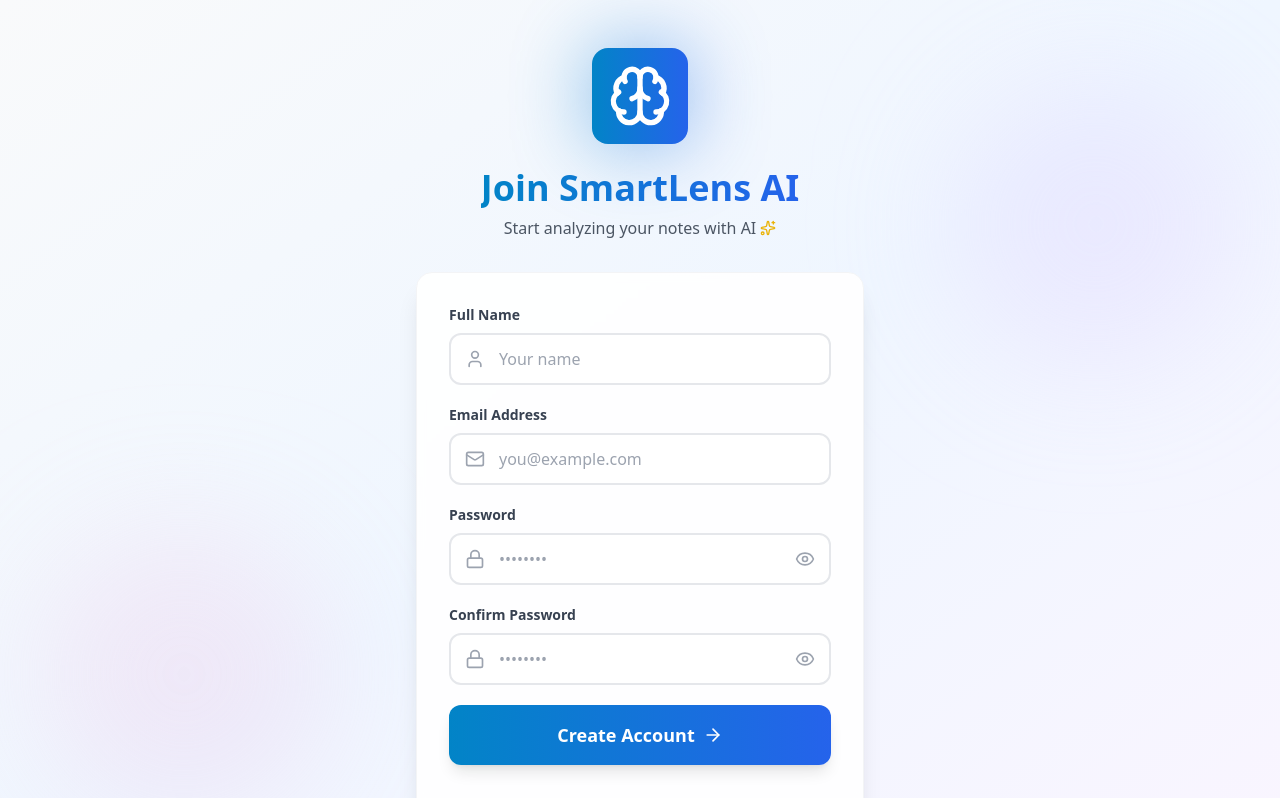
Signup Component › Error Handling › should display generic error message when no specific message provided
In the field labelled "Full Name": (640, 359) [449, 333, 831, 385], type "John Doe"
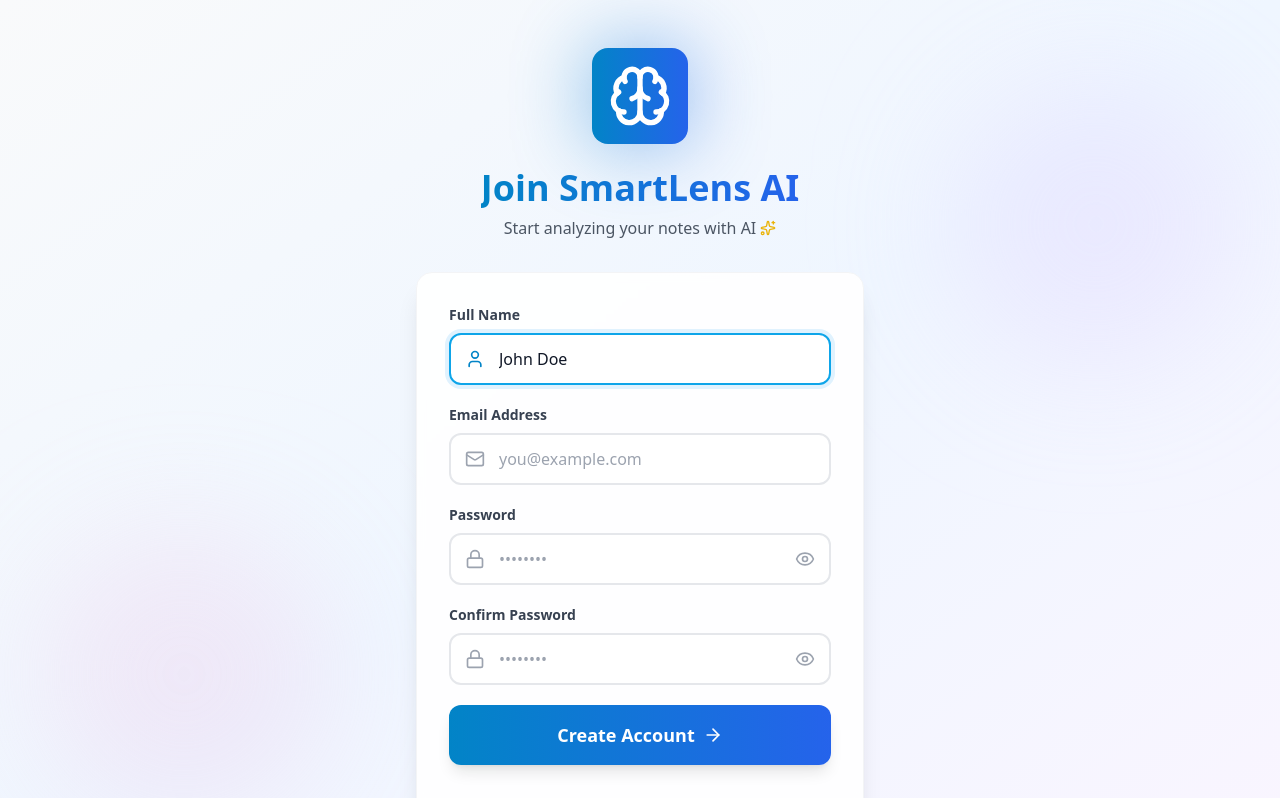
In the field labelled "Email Address": (640, 459) [449, 433, 831, 485], type "test@example.com"
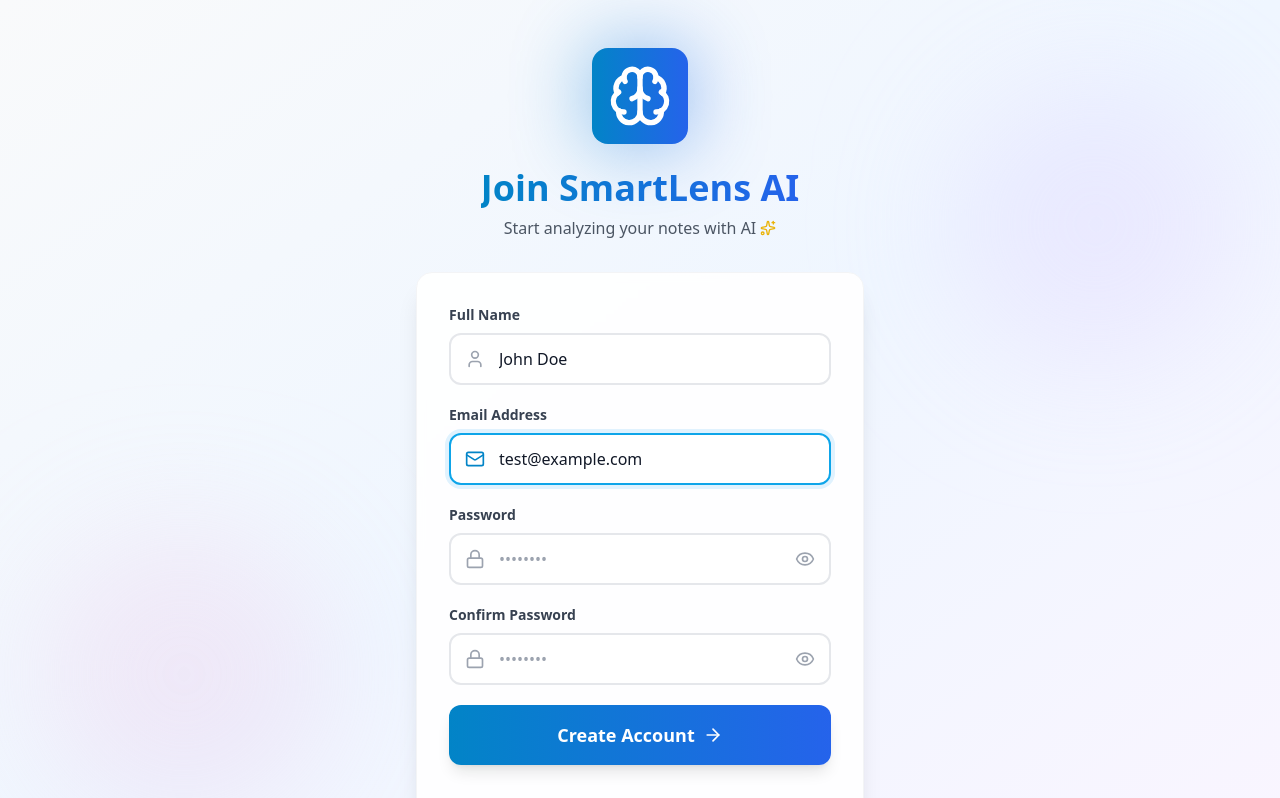
In the password field labelled "Password": (640, 559) [449, 533, 831, 585], type "password123"
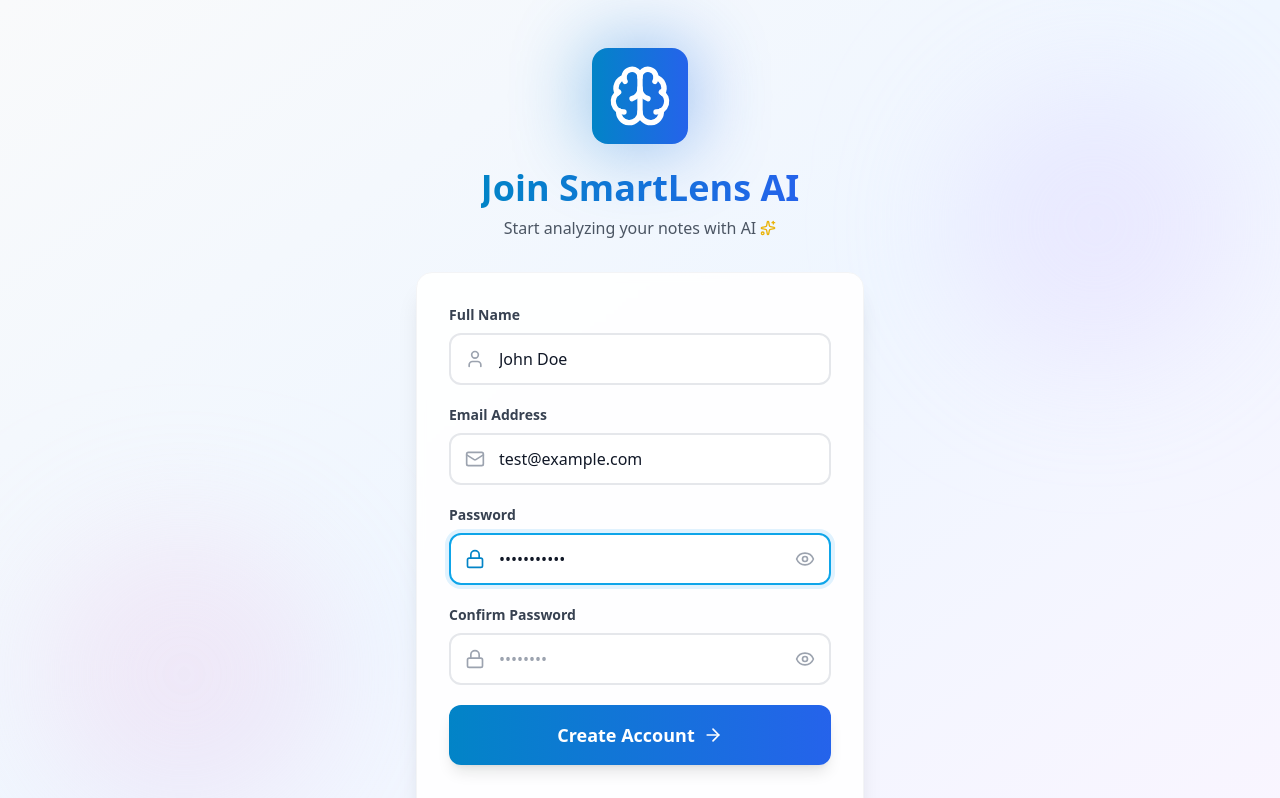
In the password field labelled "Confirm Password": (640, 659) [449, 633, 831, 685], type "password123"
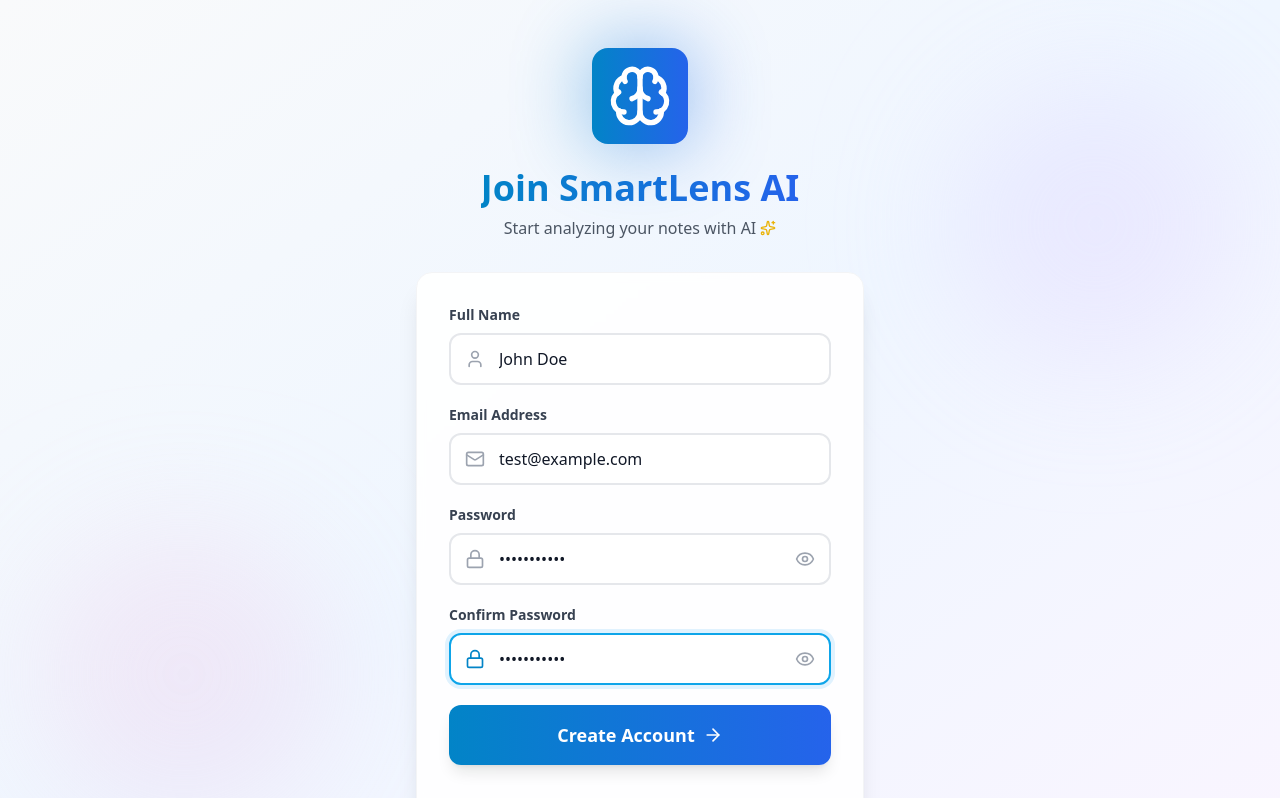
Click the button "Create Account": (640, 735) [449, 705, 831, 765]
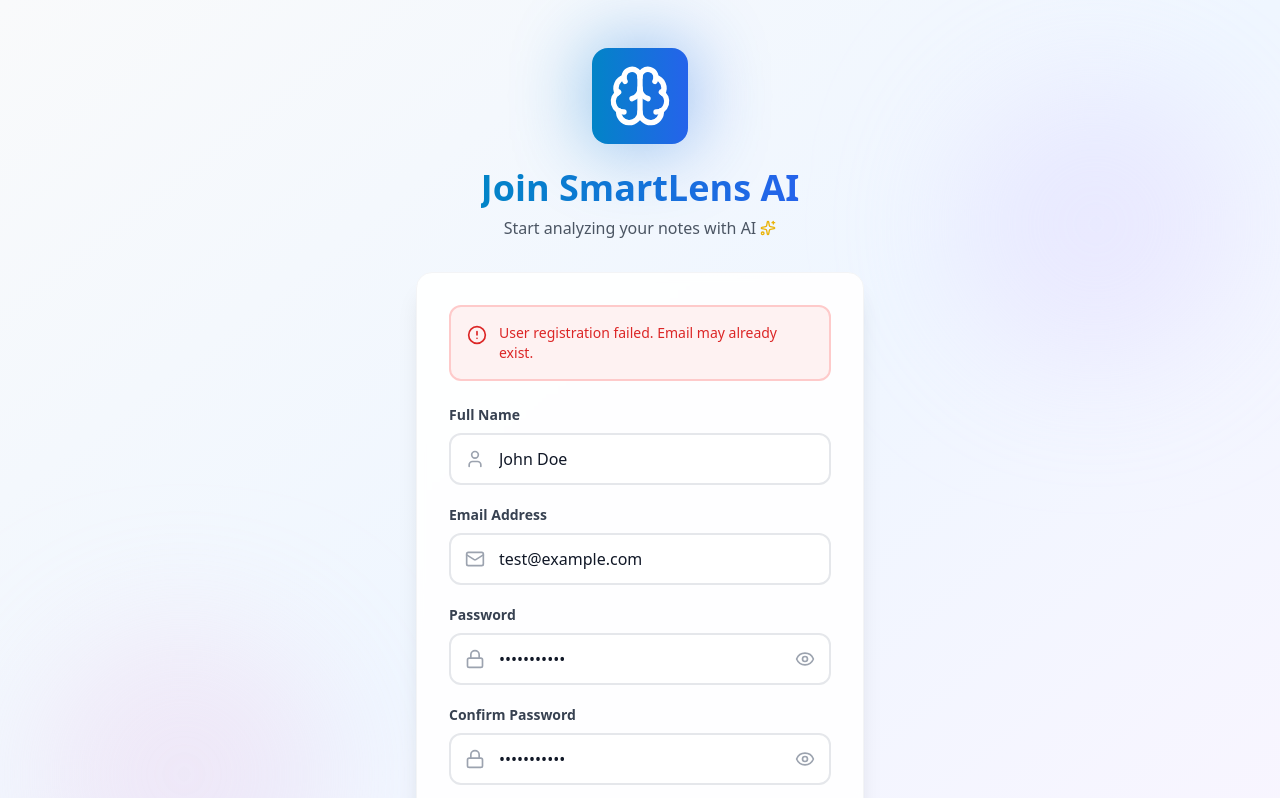
Expected: the text "User registration failed. Email may already exist." is shown, [499, 323, 813, 363]
